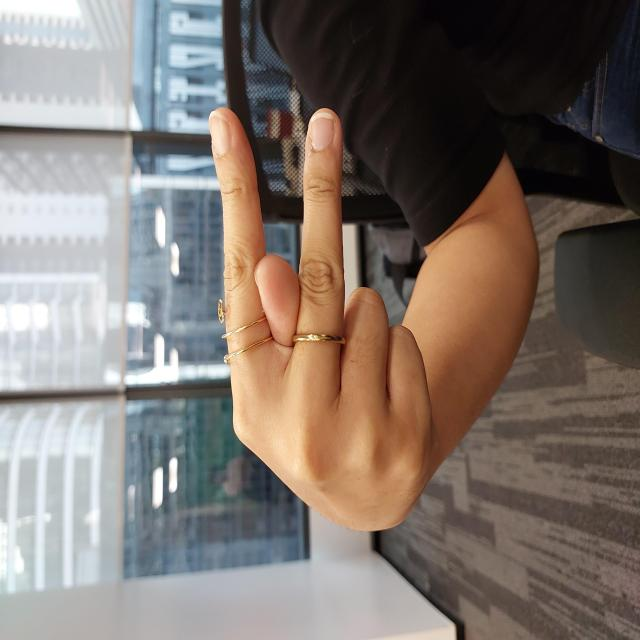K: (105, 204, 536, 435)
